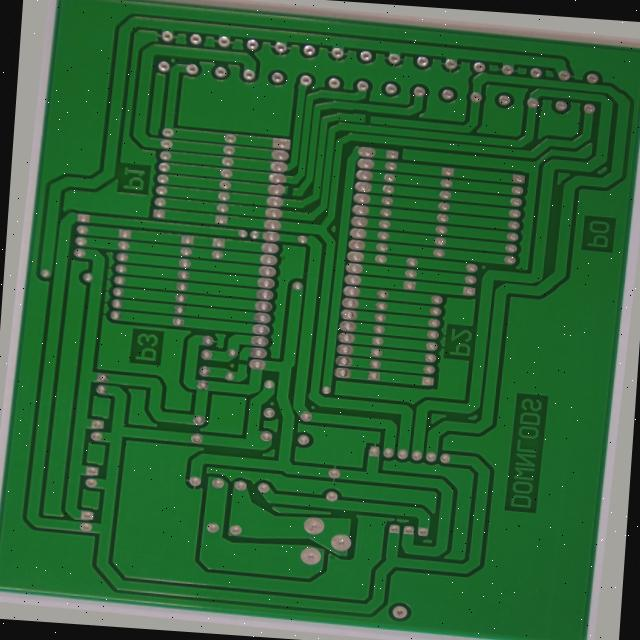open_circuit: (230, 359, 247, 371), (351, 105, 366, 118), (275, 182, 288, 195)
